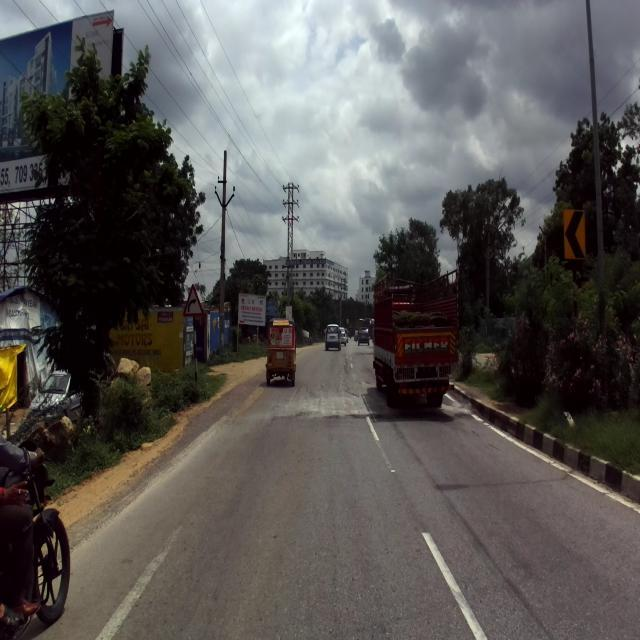pothole: (251, 390, 393, 422)
